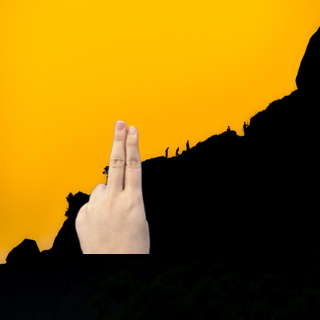DHAVE: (70, 116, 152, 253)
